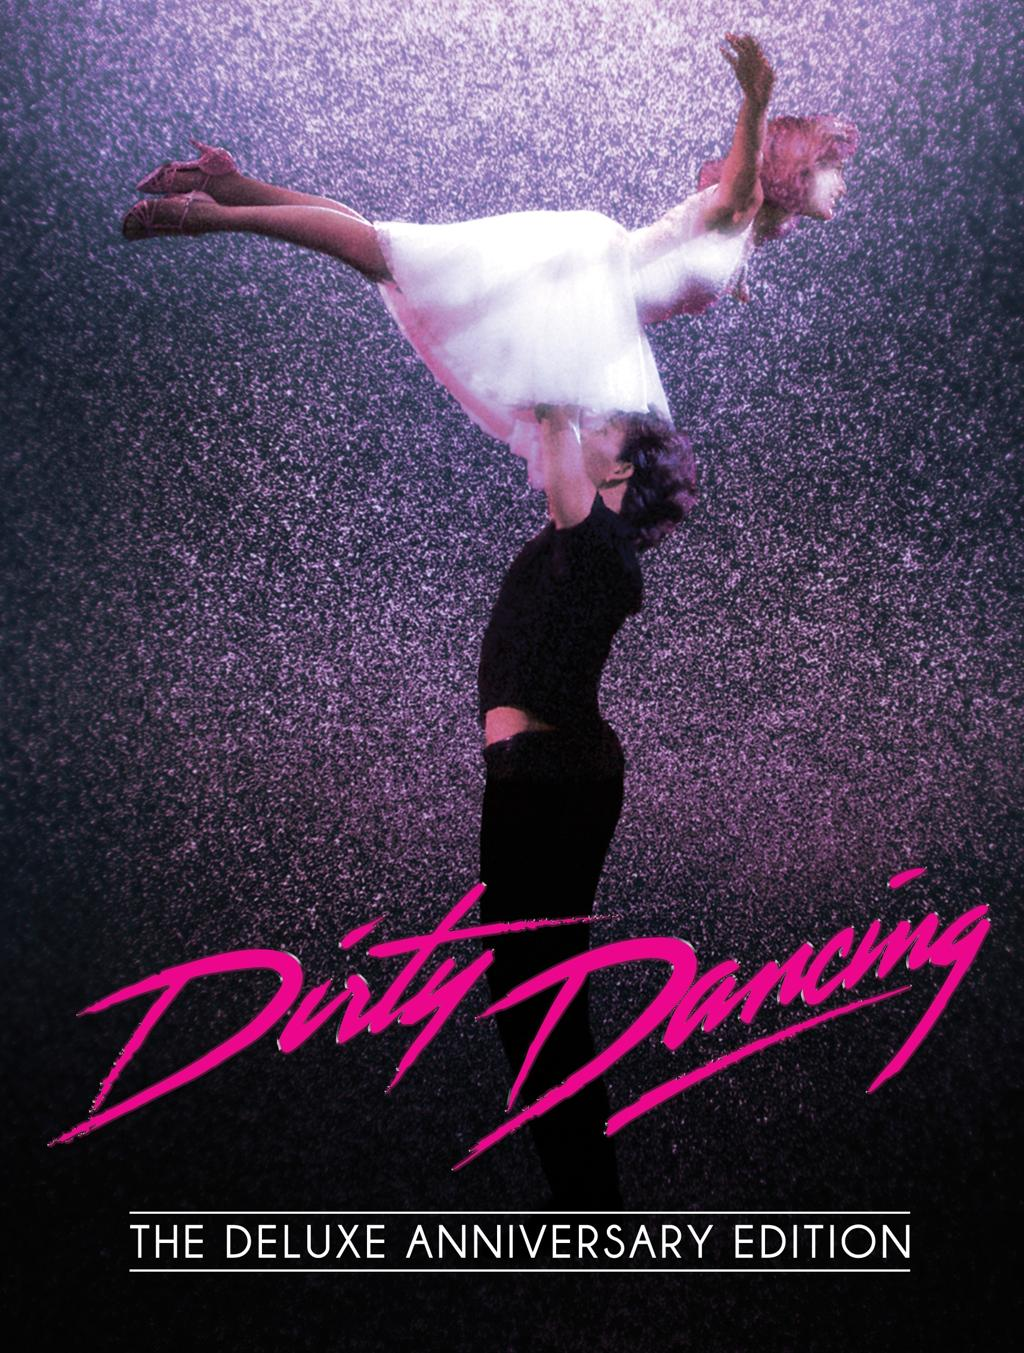face: (552, 425, 634, 499), (789, 135, 852, 227)
